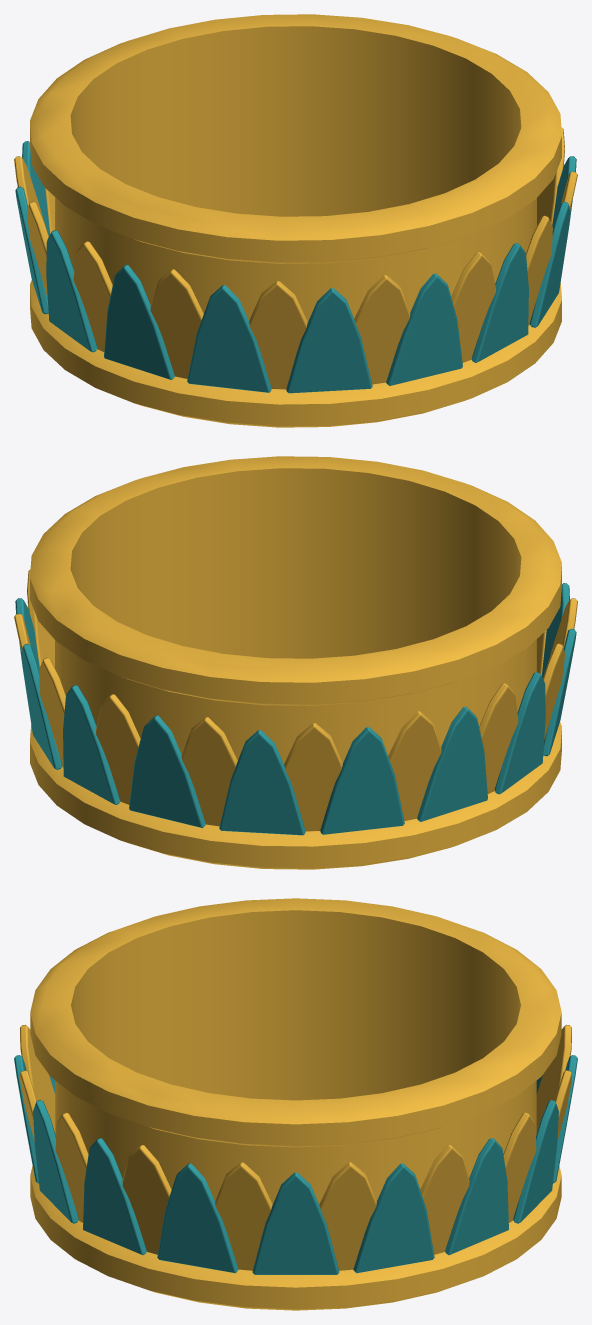
Rendered from P_LotusCapitalBand.fbx.
The picture shows the model from 3 angles, top to bottom: view 1: azimuth 30°, elevation 25°; view 2: azimuth 150°, elevation 25°; view 3: azimuth 270°, elevation 25°; orthographic projection.
Visible parts, largest first — view 1: P_LotusCapitalBand; view 2: P_LotusCapitalBand; view 3: P_LotusCapitalBand.
Boxes of the visible parts, x1,y1,x2,y2 form: P_LotusCapitalBand: (14, 14, 577, 427); P_LotusCapitalBand: (14, 456, 577, 869); P_LotusCapitalBand: (14, 898, 577, 1310).
Bounding box in the file's own units: 0.9021 × 0.35 × 0.9021.
